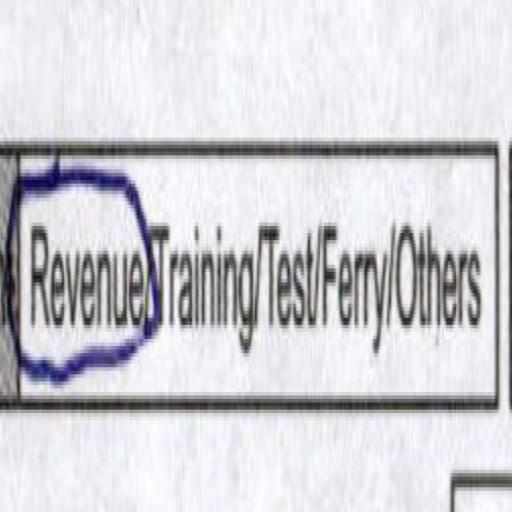check: (28, 74, 148, 460)
